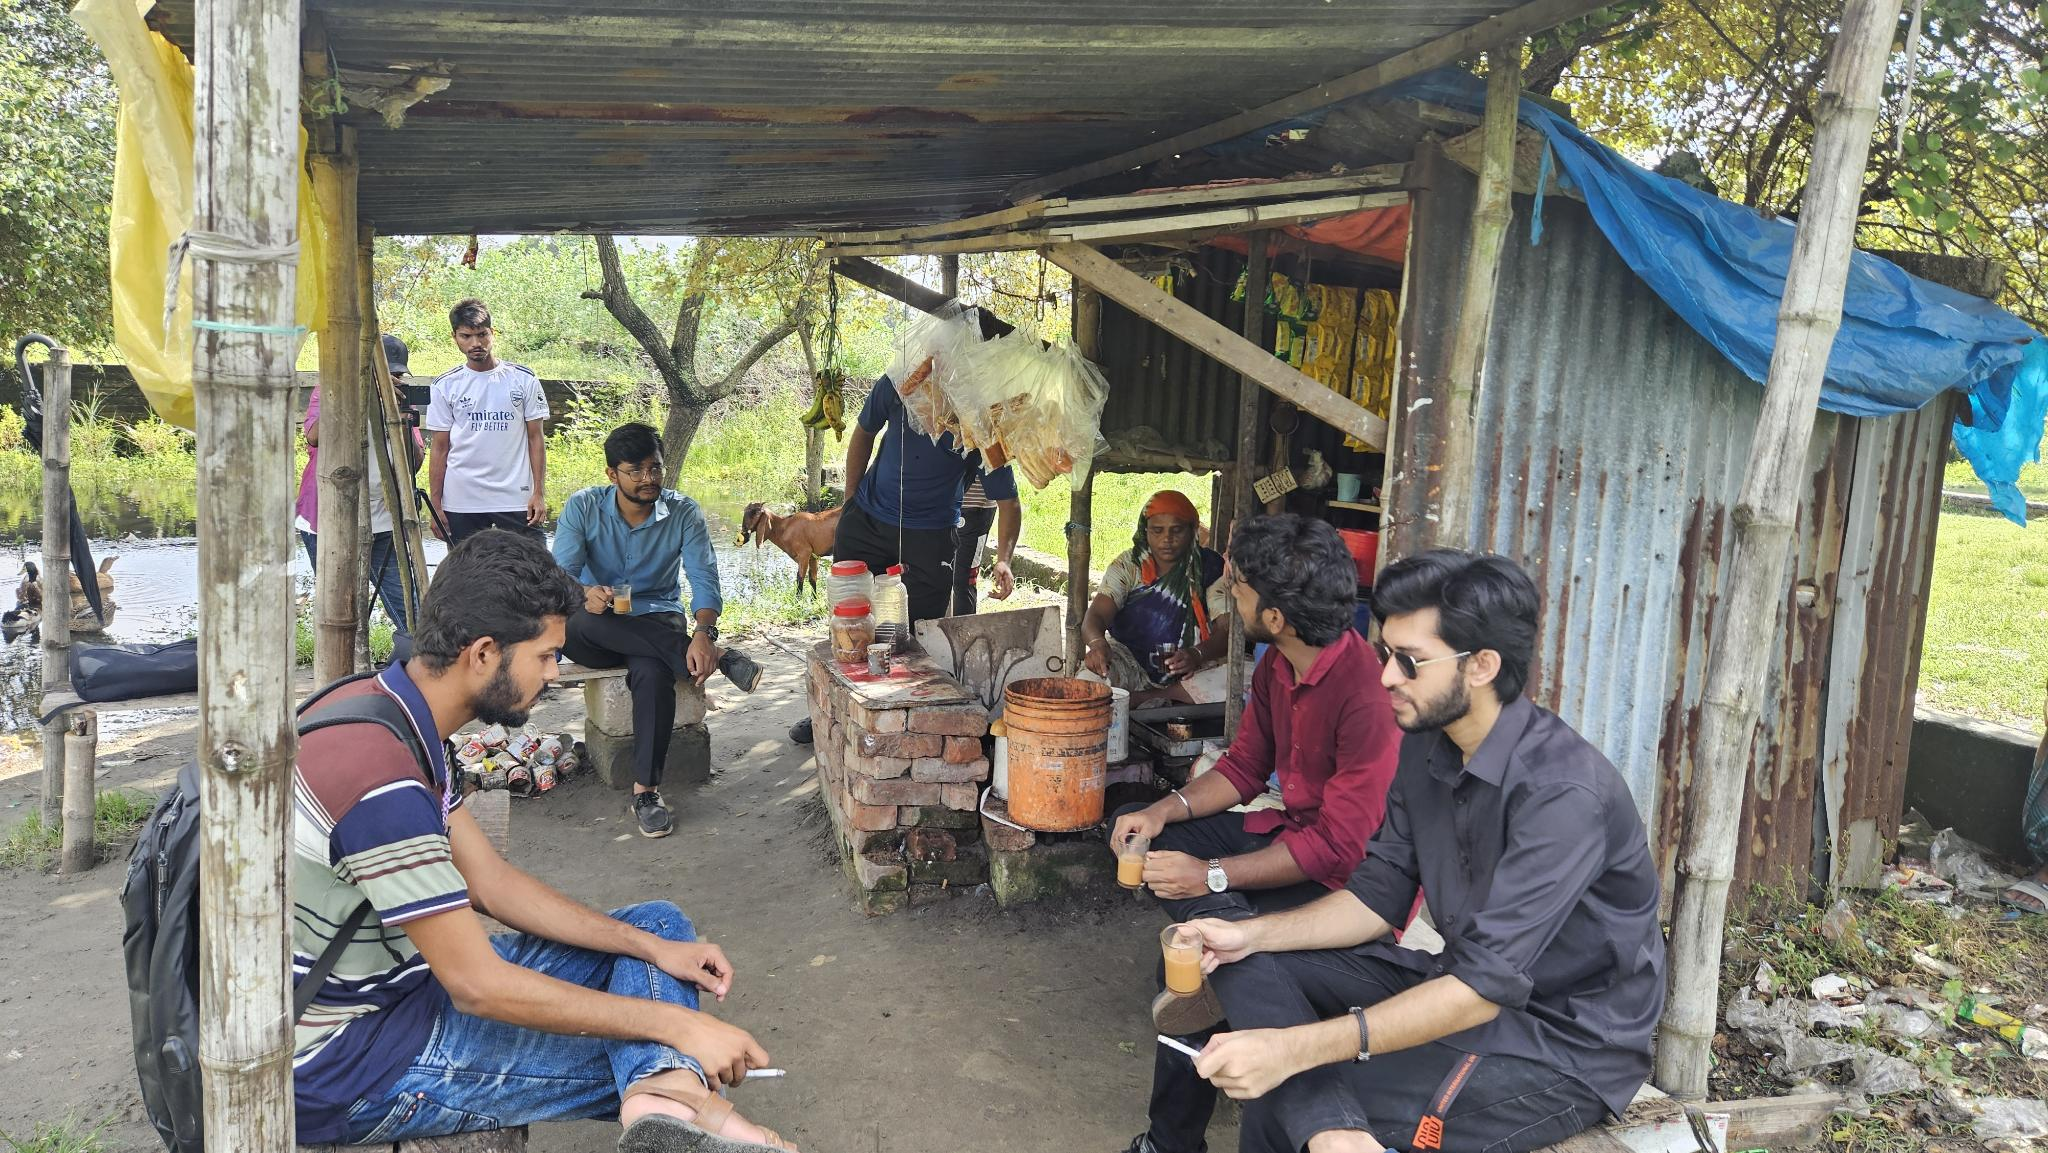cigarette: (1155, 1032, 1204, 1063), (741, 1064, 789, 1081)
nonSmoker: (1104, 506, 1398, 918), (558, 415, 762, 842), (1076, 478, 1229, 727), (423, 301, 557, 534)
smoker: (286, 546, 800, 1153), (1159, 548, 1670, 1153)
